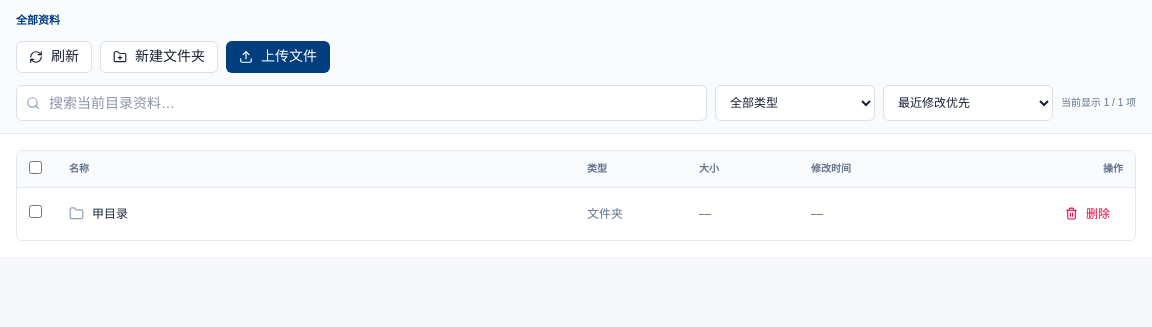
Test: research library directory request ordering › retains the current request failure and lets the user retry
Click the button "甲目录": (98, 214) [69,206,128,222]
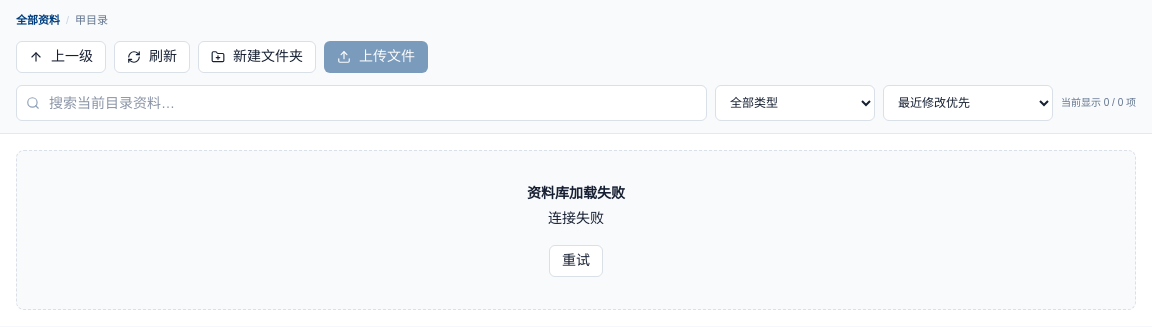
Expected: the text "连接失败" is shown, [548,208,604,228]
Click the button "重试": (576, 260) [549,244,603,276]
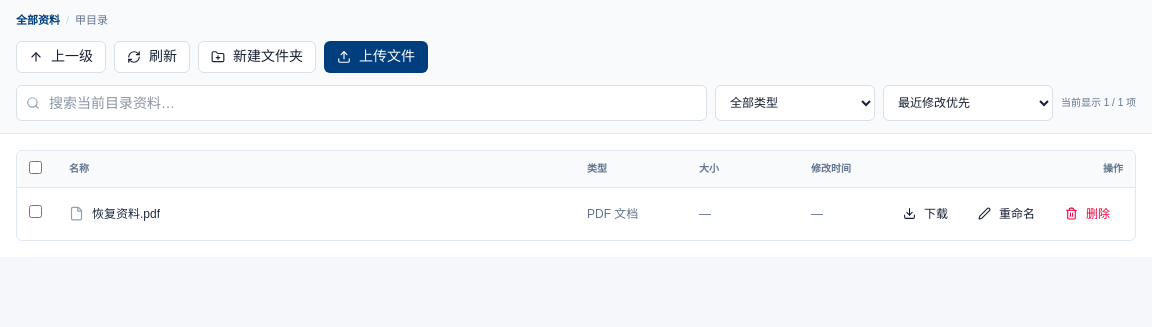
Expected: the text "恢复资料.pdf" is shown, [92,206,160,222]
